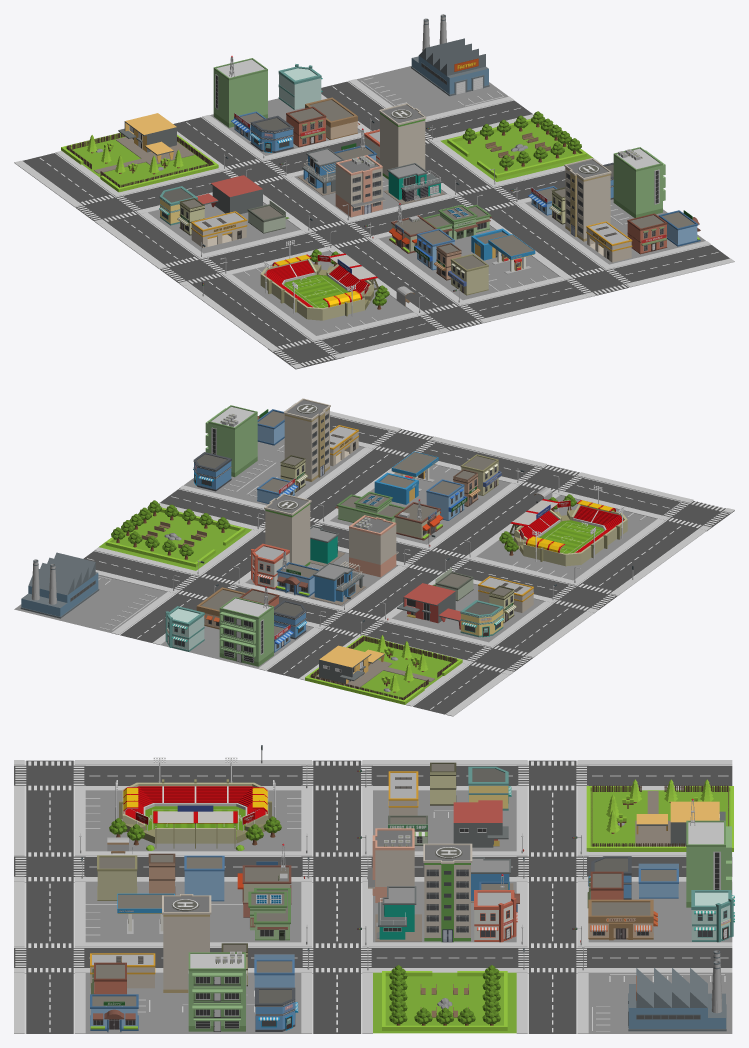
Rendered from finalcity.glb.
3 renders of one model, top to bottom at view 1: azimuth 30°, elevation 25°; view 2: azimuth 150°, elevation 25°; view 3: azimuth 270°, elevation 25°, orthographic. The views are drawn at different scales.
Parts seen in each view (by area): view 1: Building_Stadium, Building_Factory, Building_Residential_color01.001, Building_Residential_color01, Building Sky_big_color01.001, Building Sky_big_color01, Building Sky_small_color01, Building_Gas Station, Building_House_02_color01, Building_House_04_color01.001, Building_House_04_color01, Building_Clothing (+74 smaller); view 2: Building_Stadium, Building_Factory, Building_Residential_color01, Building Sky_big_color01.001, Building_Residential_color01.001, Building Sky_big_color01, Building Sky_small_color01, Building_Gas Station, Building_House_04_color01, Building_House_01_color01, Building_House_04_color01.001, Building_Clothing (+77 smaller); view 3: Building_Stadium, Building_Factory, Building_Residential_color01.001, Building Sky_big_color01, Building Sky_big_color01.001, Building_Residential_color01, Building_Coffee Shop, Building Sky_small_color01, Building_House_04_color01, Road Lane_01.031, Building_House_02_color01, Road Lane_01.029 (+98 smaller).
Part boxes in pixels (x1,y1,x2,y2): Building_Stadium: (260,240,378,320); Building_Factory: (411,14,489,96); Building_Residential_color01.001: (613,147,665,217); Building_Residential_color01: (213,58,267,127); Building Sky_big_color01.001: (564,158,611,241); Building Sky_big_color01: (379,103,426,179); Building Sky_small_color01: (335,155,385,217); Building_Gas Station: (471,228,535,274); Building_House_02_color01: (383,163,444,204); Building_House_04_color01.001: (118,113,176,162); Building_House_04_color01: (196,175,262,214); Building_Clothing: (278,64,322,109); Building_Stadium: (509,485,627,566); Building_Factory: (20,552,99,618); Building_Residential_color01: (219,597,273,666); Building Sky_big_color01.001: (283,398,330,481); Building_Residential_color01.001: (205,405,257,477); Building Sky_big_color01: (264,493,311,566); Building Sky_small_color01: (349,515,398,577); Building_Gas Station: (374,451,438,504); Building_House_04_color01: (397,583,460,629); Building_House_01_color01: (310,561,365,605); Building_House_04_color01.001: (319,645,384,683); Building_Clothing: (165,606,204,651); Building_Stadium: (115,757,275,848); Building_Factory: (628,950,726,1031); Building_Residential_color01.001: (188,952,246,1031); Building Sky_big_color01: (423,843,472,942); Building Sky_big_color01.001: (162,894,211,992); Building_Residential_color01: (686,820,731,907); Building_Coffee Shop: (588,899,657,940); Building Sky_small_color01: (368,828,414,902); Building_House_04_color01: (453,800,508,847); Road Lane_01.031: (588,942,660,973); Building_House_02_color01: (375,886,421,941); Road Lane_01.029: (516,1003,588,1033).
Bounding box in the file's own units: 180 × 27.21 × 201.
Materials: 34 (34 with a texture image).
